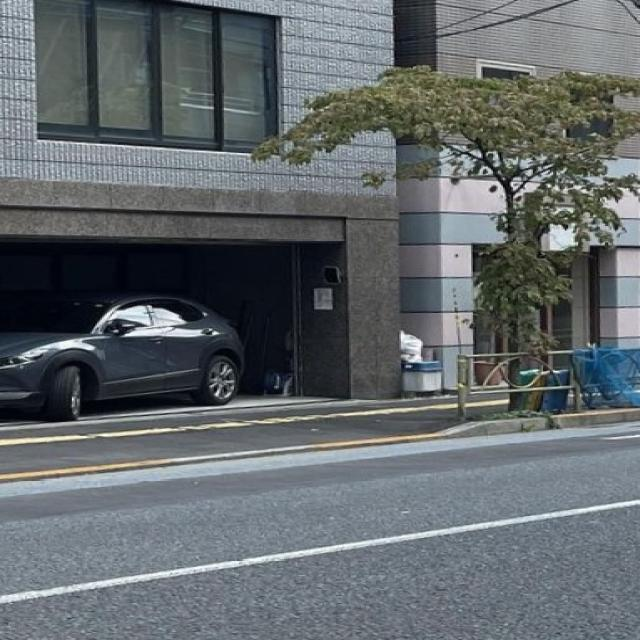dogwood: (251, 64, 640, 412)
